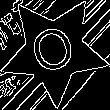O_S: (26, 19, 82, 82)
